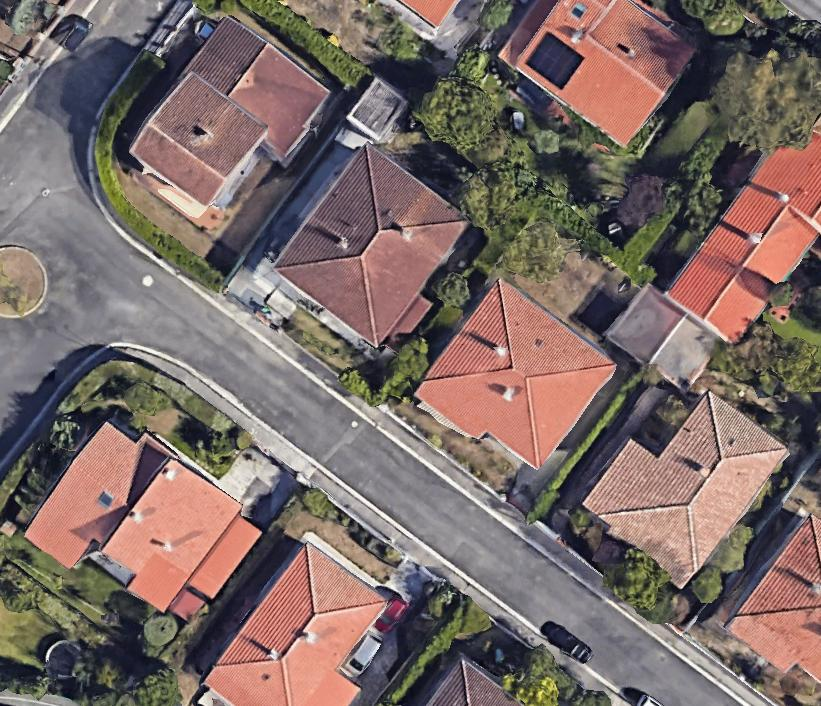maison: (19, 406, 270, 648), (114, 8, 341, 246), (260, 138, 488, 369), (573, 365, 794, 591), (409, 274, 619, 484), (661, 112, 821, 351), (200, 538, 410, 706), (494, 0, 702, 149), (725, 515, 820, 682), (423, 657, 520, 705), (397, 0, 458, 28)
